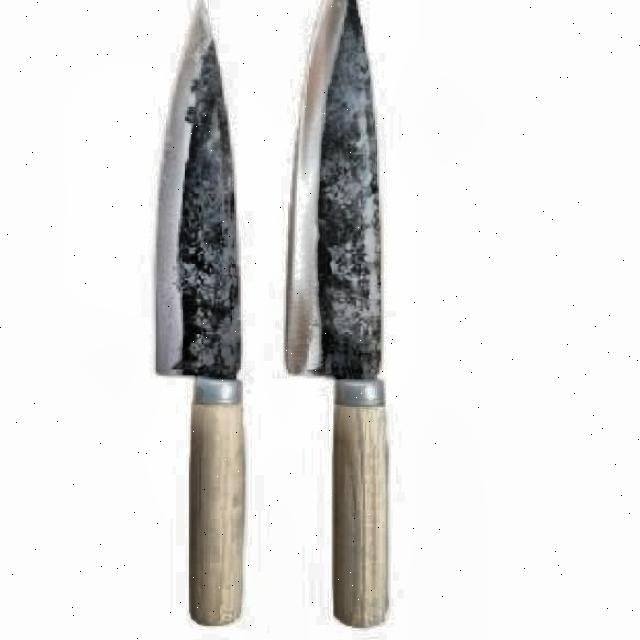knife: (284, 0, 388, 631), (152, 0, 250, 627)
